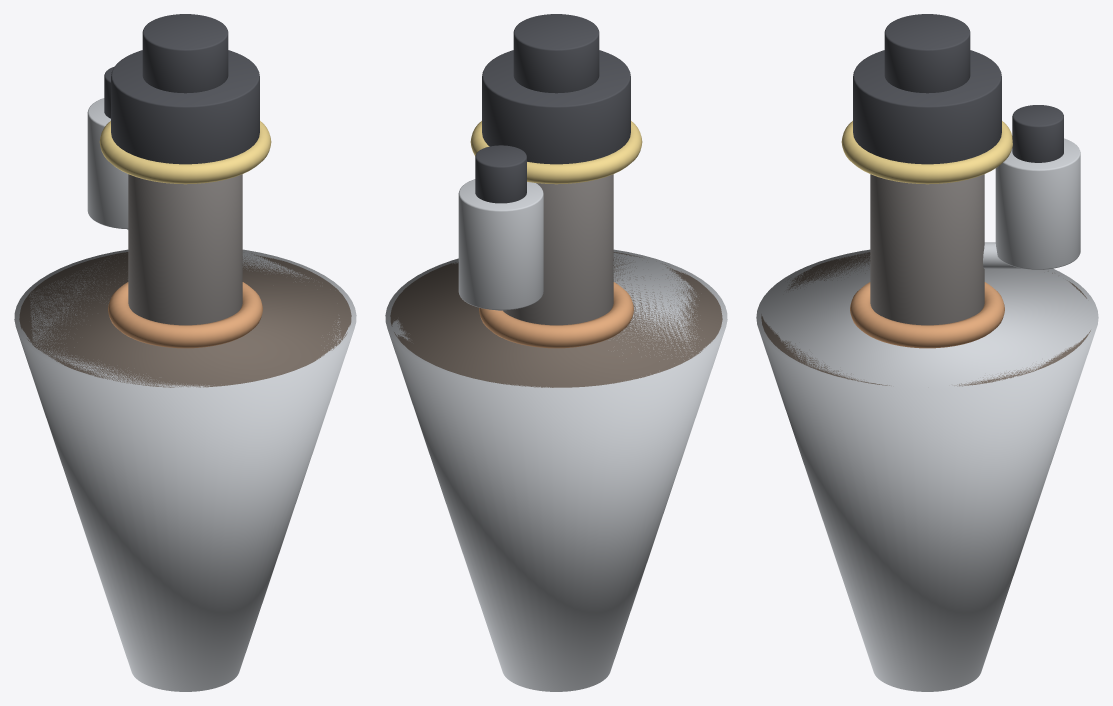
File: merlin_1a.glb
The picture shows the model from 3 angles, left to right: view 1: azimuth 30°, elevation 25°; view 2: azimuth 150°, elevation 25°; view 3: azimuth 270°, elevation 25°; orthographic projection.
Parts seen in each view (by area): view 1: nozzle_shell, nozzle, chamber, injector, gimbal, manifold, injector_ring, turbopump; view 2: nozzle_shell, nozzle, injector, chamber, turbopump, gimbal, manifold, injector_ring, turbine; view 3: nozzle_shell, chamber, injector, turbopump, gimbal, manifold, injector_ring, nozzle, turbine.
Boxes of the visible parts, box(x1,y1,x2,y2) form: nozzle_shell: box(14, 249, 356, 691); nozzle: box(19, 252, 351, 387); chamber: box(128, 174, 242, 325); injector: box(111, 50, 259, 164); gimbal: box(142, 14, 228, 93); manifold: box(108, 282, 262, 348); injector_ring: box(99, 121, 271, 184); turbopump: box(87, 98, 128, 229); nozzle_shell: box(385, 249, 727, 691); nozzle: box(390, 252, 722, 387); injector: box(482, 50, 630, 164); chamber: box(503, 174, 613, 325); turbopump: box(458, 179, 543, 310); gimbal: box(513, 14, 599, 93); manifold: box(479, 282, 633, 348); injector_ring: box(470, 121, 642, 184); turbine: box(475, 145, 526, 203); nozzle_shell: box(756, 249, 1098, 691); chamber: box(870, 174, 984, 325); injector: box(853, 50, 1001, 164); turbopump: box(995, 138, 1080, 269); gimbal: box(884, 14, 970, 93); manifold: box(850, 282, 1004, 348); injector_ring: box(841, 121, 1012, 184); nozzle: box(761, 252, 1090, 386); turbine: box(1012, 105, 1063, 162).
Size of the model in its own units: 0.927 by 1.9 by 0.927.
